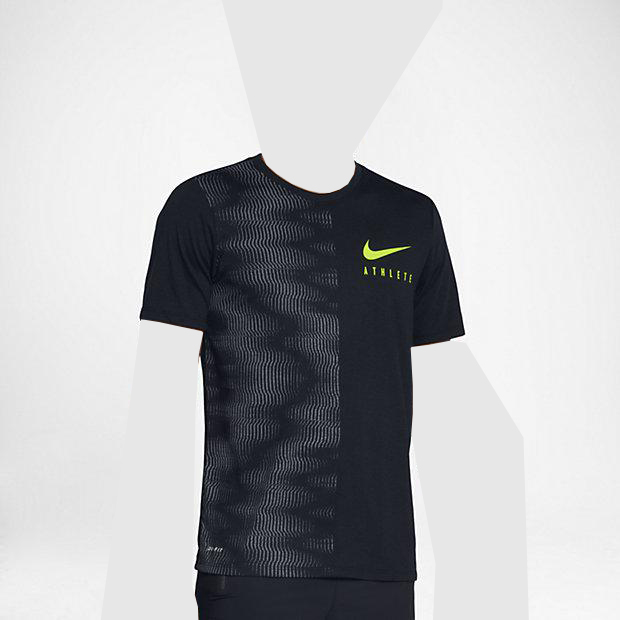teeshirt: (135, 153, 470, 591)
